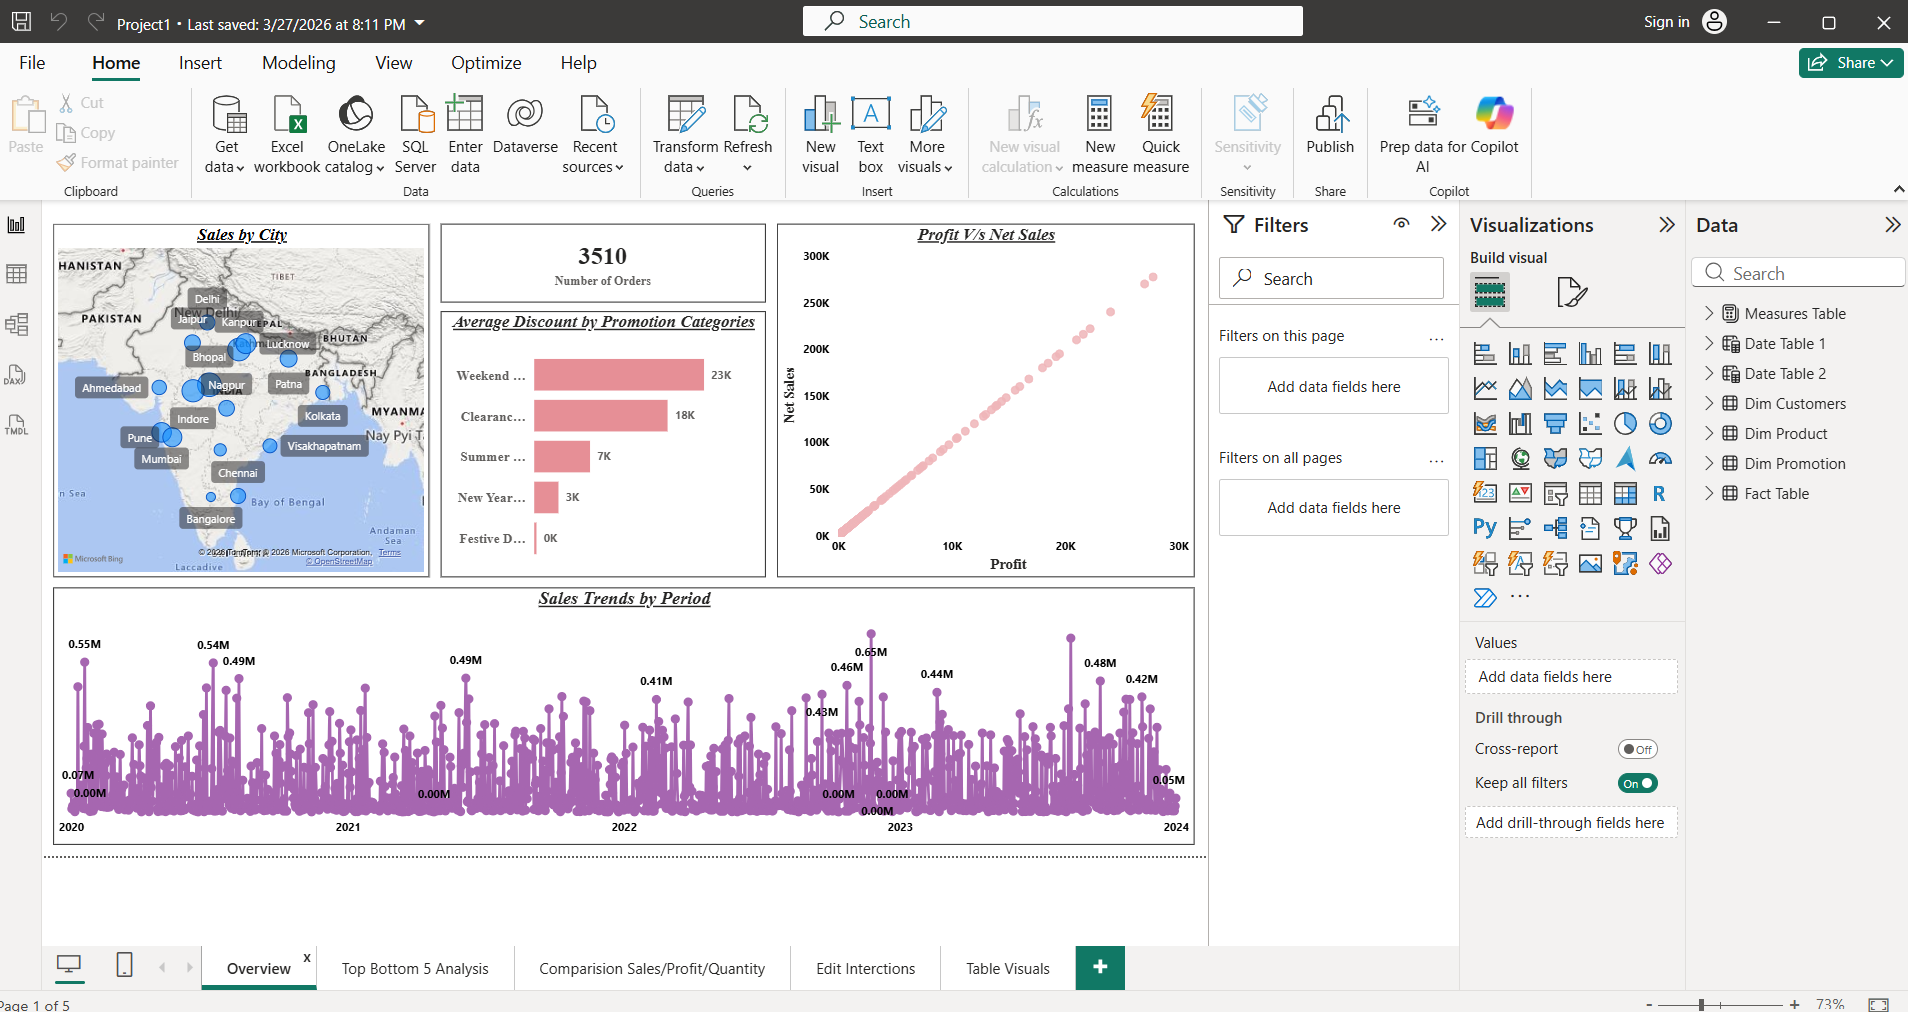

What the dashboard file says about the page in this screenshot:
{"tool":"powerbi","page":{"name":"Overview","canvas":[1280,720],"ordinal":0},"visuals":[{"type":"lineChart","title":"Sales Trends by Period","fields":{"Y":["Sum(Fact Table.Net Sales   )"],"Category":["Fact Table.Date (dd/mm/yyyy).Variation.Date Hierarchy.Year"]},"box":[12.3,425.4,1252.8,282.7],"z":0},{"type":"scatterChart","title":"Profit V/s Net Sales   ","fields":{"Y":["Fact Table.Net Sales   "],"X":["Fact Table.Profit"]},"box":[806.9,26.1,458.3,388.3],"z":1000},{"type":"barChart","title":"Average Discount by Promotion Categories","fields":{"Category":["Dim Promotion.Promotion Name"],"Y":["Avg(Fact Table.Discount Values)"]},"box":[437.7,122.1,356.8,292.3],"z":2000},{"type":"map","title":"Sales by City","fields":{"Category":["Dim Customers.City"],"Size":["Sum(Fact Table.Net Sales   )"]},"box":[12.3,26.1,413,388.3],"z":3000},{"type":"card","fields":{"Values":["Count(Fact Table.Order ID)"]},"box":[437.7,26.1,356.8,86.4],"z":4000}]}

Visuals, with their boxes on the page's 1280x720 design canvas (x1, y1, x2, y2). These are canvas units, not pixel positions in the 1908x1012 screenshot, which may show the page scaled, cropped or inside an application window:
"Sales Trends by Period" lineChart: 12,425,1265,708
"Profit V/s Net Sales   " scatterChart: 807,26,1265,414
"Average Discount by Promotion Categories" barChart: 438,122,794,414
"Sales by City" map: 12,26,425,414
card - Count(Fact Table.Order ID): 438,26,794,112
